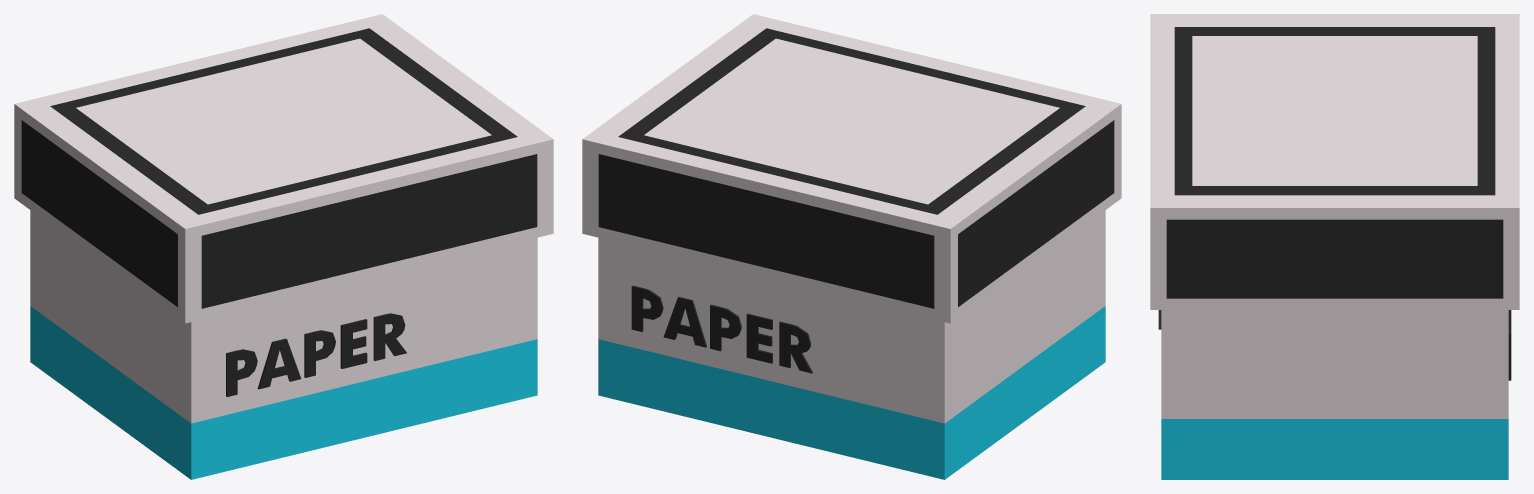
File: mesh_paperbox.fbx
3 views of the same model, side by side, from view 1: azimuth 30°, elevation 25°; view 2: azimuth 150°, elevation 25°; view 3: azimuth 270°, elevation 25° (orthographic). The views are drawn at different scales.
Parts seen in each view (by area): view 1: mesh_paper_01; view 2: mesh_paper_01; view 3: mesh_paper_01.
Boxes of the visible parts, x1=… form: mesh_paper_01: x1=14, y1=14, x2=553, y2=479; mesh_paper_01: x1=582, y1=14, x2=1121, y2=479; mesh_paper_01: x1=1150, y1=14, x2=1519, y2=479.
Size of the model in its own units: 13.18 by 8.8 by 10.61.
